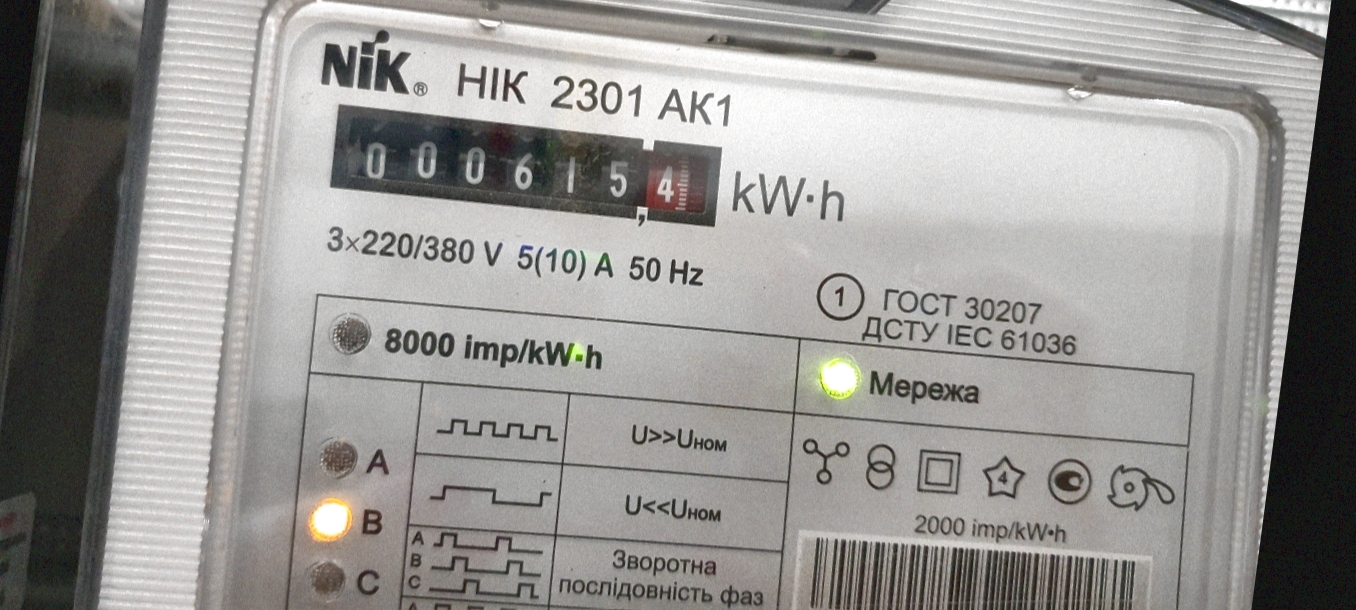0: (459, 141, 489, 187), (359, 136, 390, 180), (412, 137, 440, 179)
1: (561, 152, 579, 195)
4: (653, 161, 677, 203)
5: (603, 155, 631, 200)
6: (508, 147, 537, 191)
screen: (312, 83, 738, 249)
